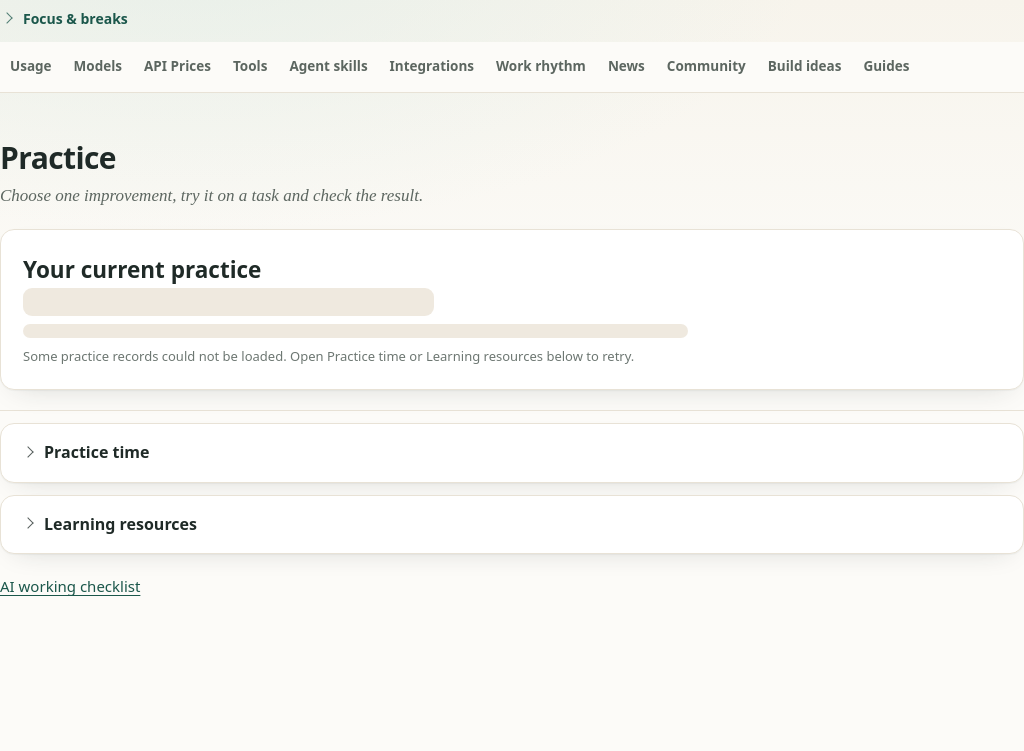
it: BaselineBuilder › opens from the interface with a research-backed editable draft
The image size is (1024, 751).
Click the link "AI working checklist" at [70, 586], box [0,576,140,596]
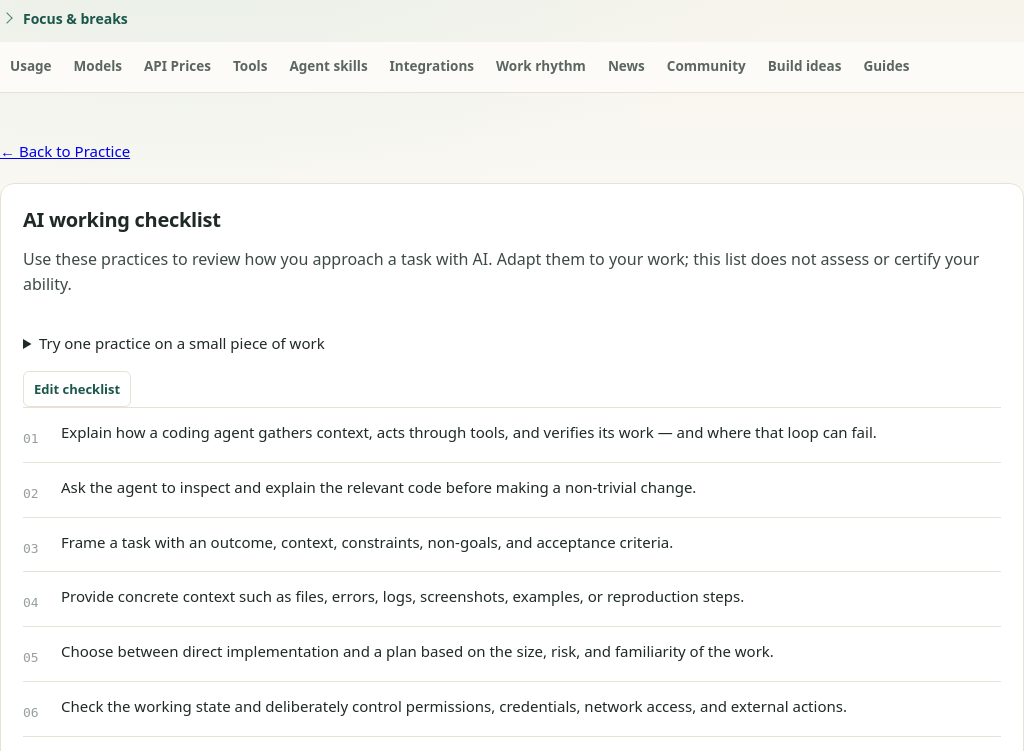
Click the button "Edit checklist" at [77, 389], box [23,371,131,407]
(page scrolled)
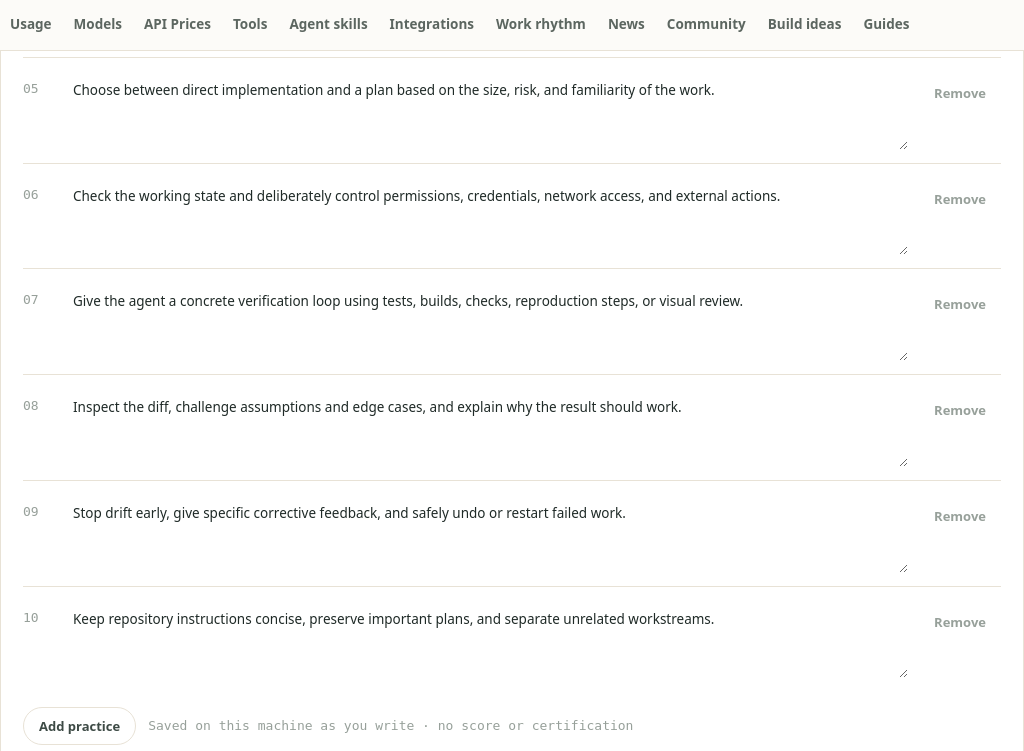
expect the number of fields is 10: met
expect the button "Add practice" is shown: met, box [23,708,136,746]
